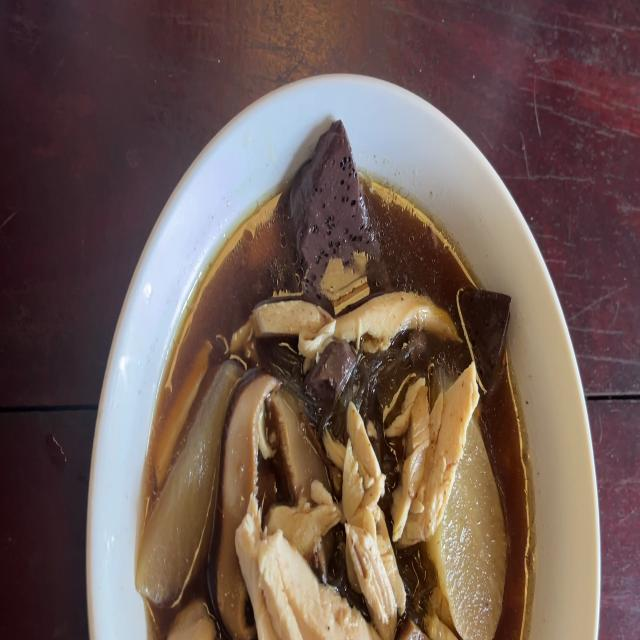noodle: (285, 129, 393, 294), (456, 282, 515, 382), (305, 338, 354, 393)
